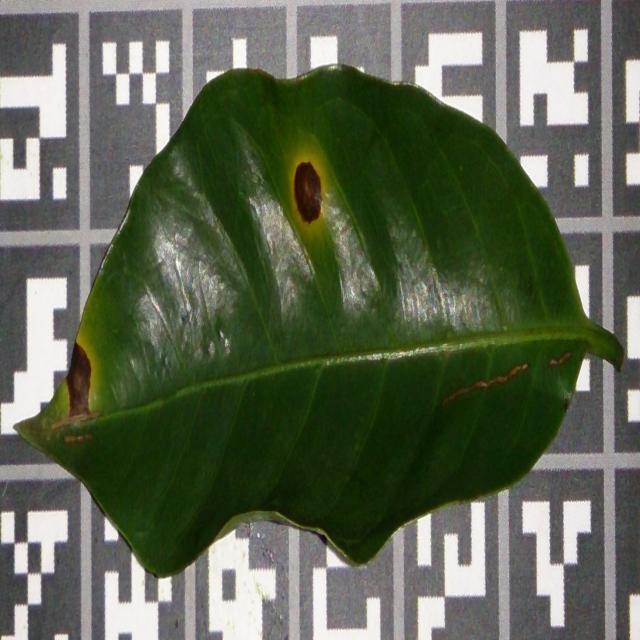Enfermedad-Mancha-de-hierro: (15, 67, 626, 580)
